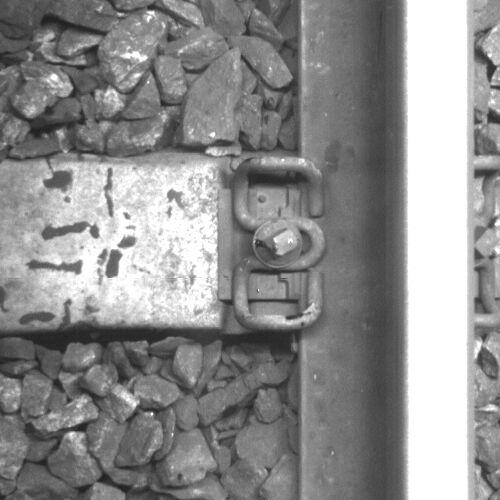rail: (404, 1, 475, 500)
tie_concr: (1, 161, 300, 329)
vossloh: (220, 157, 325, 327)
